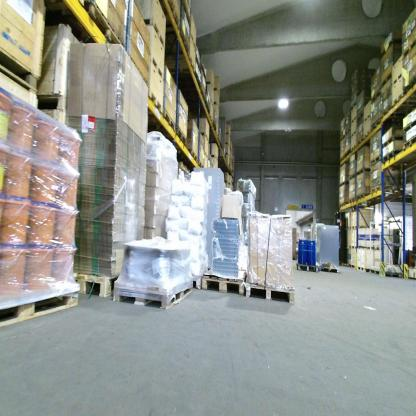pallet: (111, 270, 194, 317), (1, 279, 77, 329), (64, 266, 123, 308), (86, 4, 124, 59), (245, 275, 296, 309), (203, 267, 248, 296), (157, 28, 190, 55), (36, 91, 69, 117), (370, 115, 402, 136), (154, 1, 177, 27), (167, 53, 194, 74), (370, 184, 405, 200), (191, 266, 208, 297), (379, 36, 400, 59), (163, 109, 177, 138), (295, 261, 319, 276), (382, 149, 406, 163), (382, 135, 402, 151), (176, 124, 188, 149), (403, 133, 416, 155), (401, 77, 415, 97), (190, 70, 202, 93), (381, 71, 393, 94), (367, 89, 381, 108), (319, 263, 339, 276), (401, 42, 415, 59), (182, 4, 191, 26), (381, 106, 394, 121), (198, 159, 208, 176), (188, 149, 198, 164), (369, 155, 382, 166), (357, 167, 371, 177), (204, 98, 210, 119), (198, 86, 204, 104), (338, 180, 348, 190), (337, 155, 344, 167), (357, 194, 367, 202), (345, 125, 350, 141), (348, 172, 357, 180), (356, 138, 363, 148), (356, 110, 363, 120), (348, 198, 356, 205), (338, 205, 347, 211), (345, 149, 351, 158), (339, 136, 345, 145)
